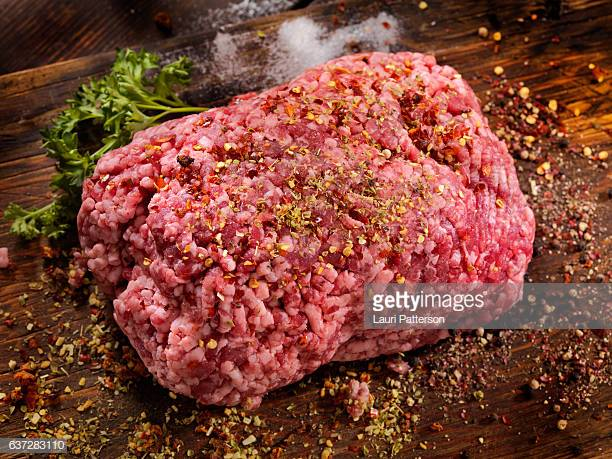ground_beef: (57, 68, 553, 380)
